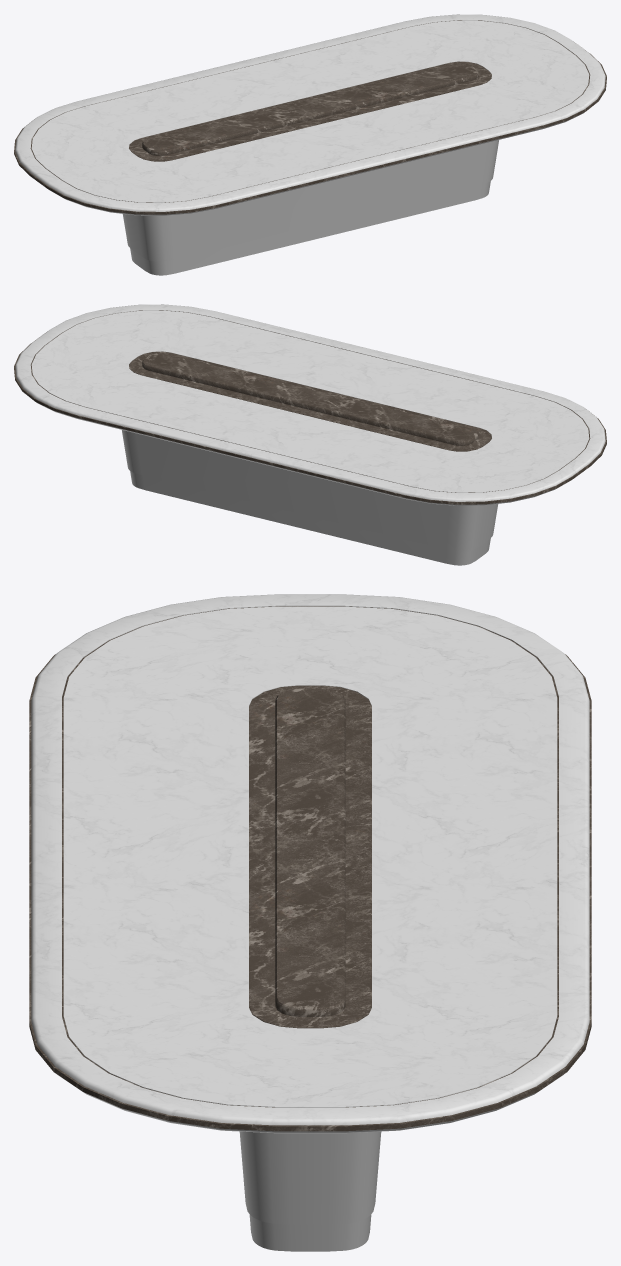
Rendered from D_Desk_003.fbx.
3 views of the same model, one above another, from view 1: azimuth 30°, elevation 25°; view 2: azimuth 150°, elevation 25°; view 3: azimuth 270°, elevation 25° (orthographic). The views are drawn at different scales.
Visible parts, largest first — view 1: D_Desk_003; view 2: D_Desk_003; view 3: D_Desk_003.
Part boxes in pixels (left/top/right/bottom): D_Desk_003: left=14, top=14, right=606, bottom=275; D_Desk_003: left=14, top=304, right=606, bottom=565; D_Desk_003: left=29, top=594, right=591, bottom=1251.
Size of the model in its own units: 3.98 by 0.8311 by 1.78.
